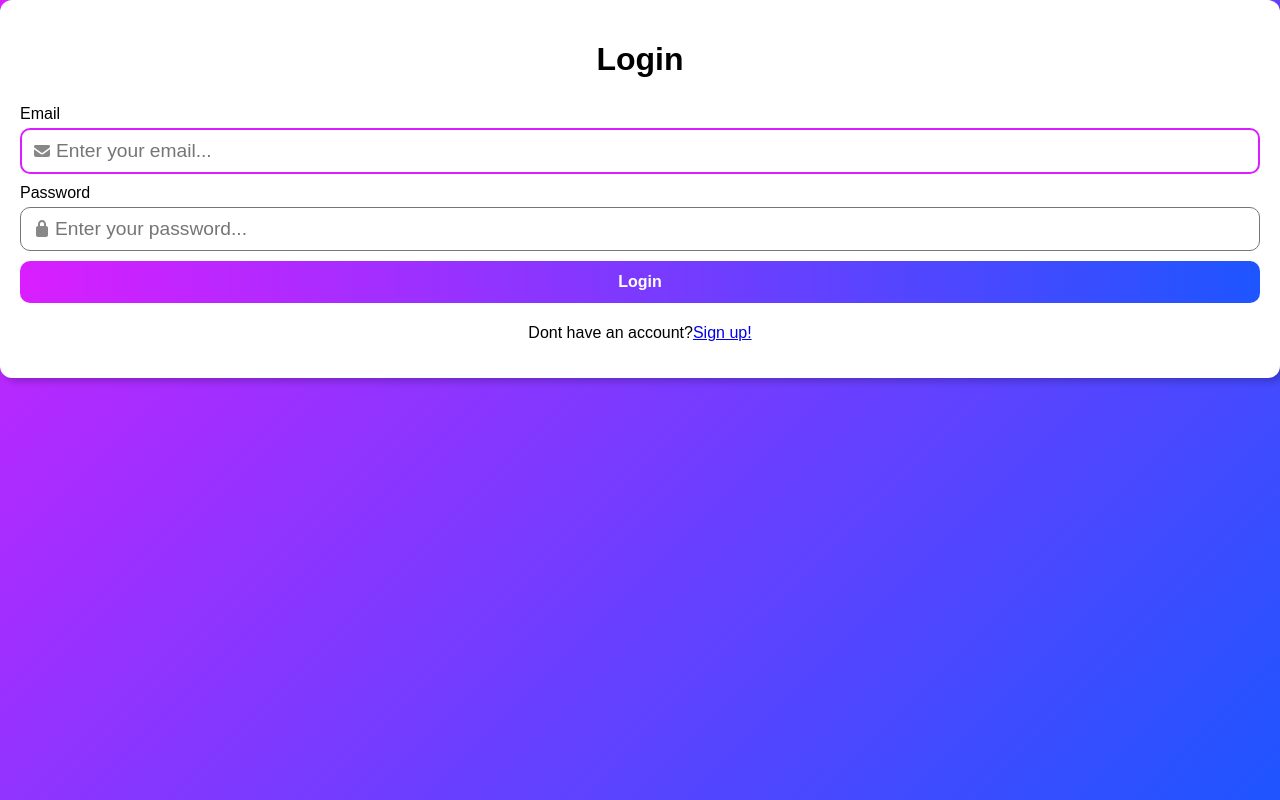
it: Login › shows an error message on 400 (bad credentials)
Type "user@example.com" into the field labelled "Email" at (640, 151), box left=20, top=128, right=1260, bottom=174
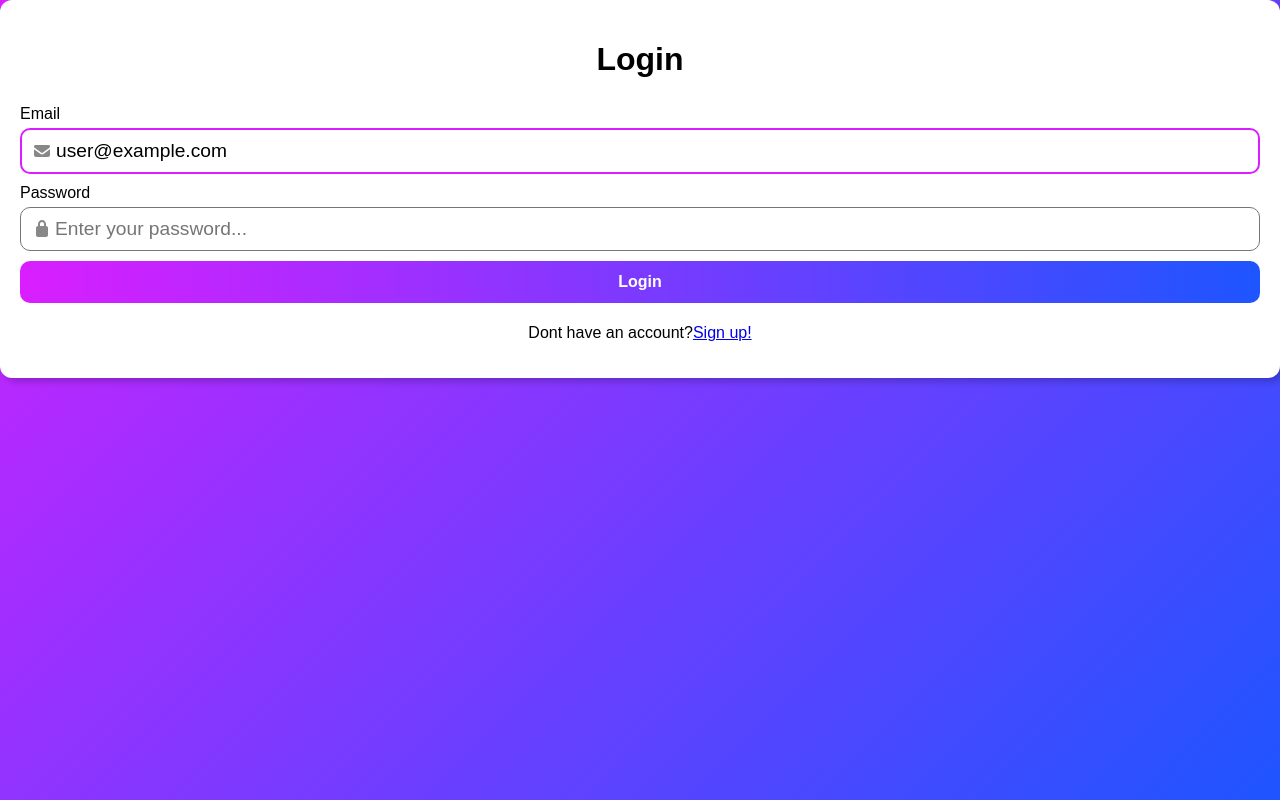
Type "wrongpass" into the password field labelled "Password" at (640, 229), box left=20, top=207, right=1260, bottom=251
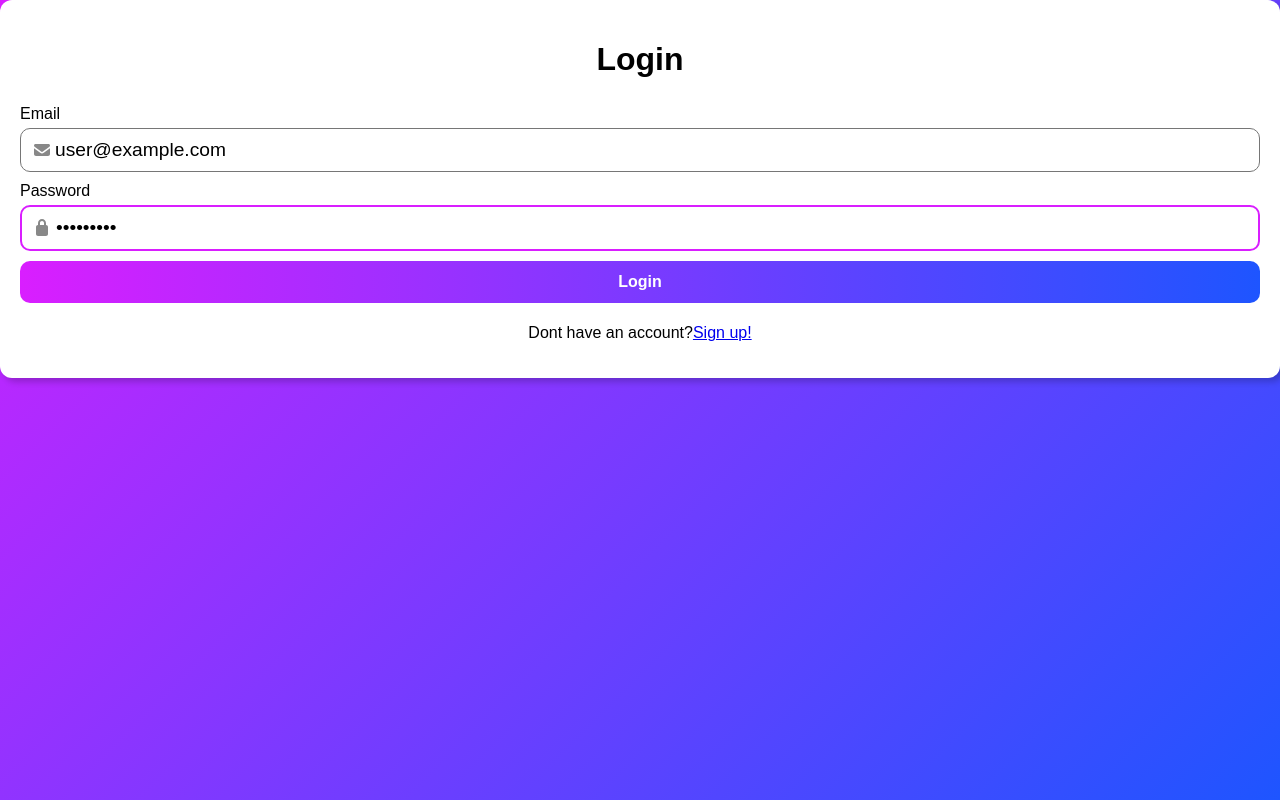
Click the button "Login" at (640, 282), box left=20, top=261, right=1260, bottom=303
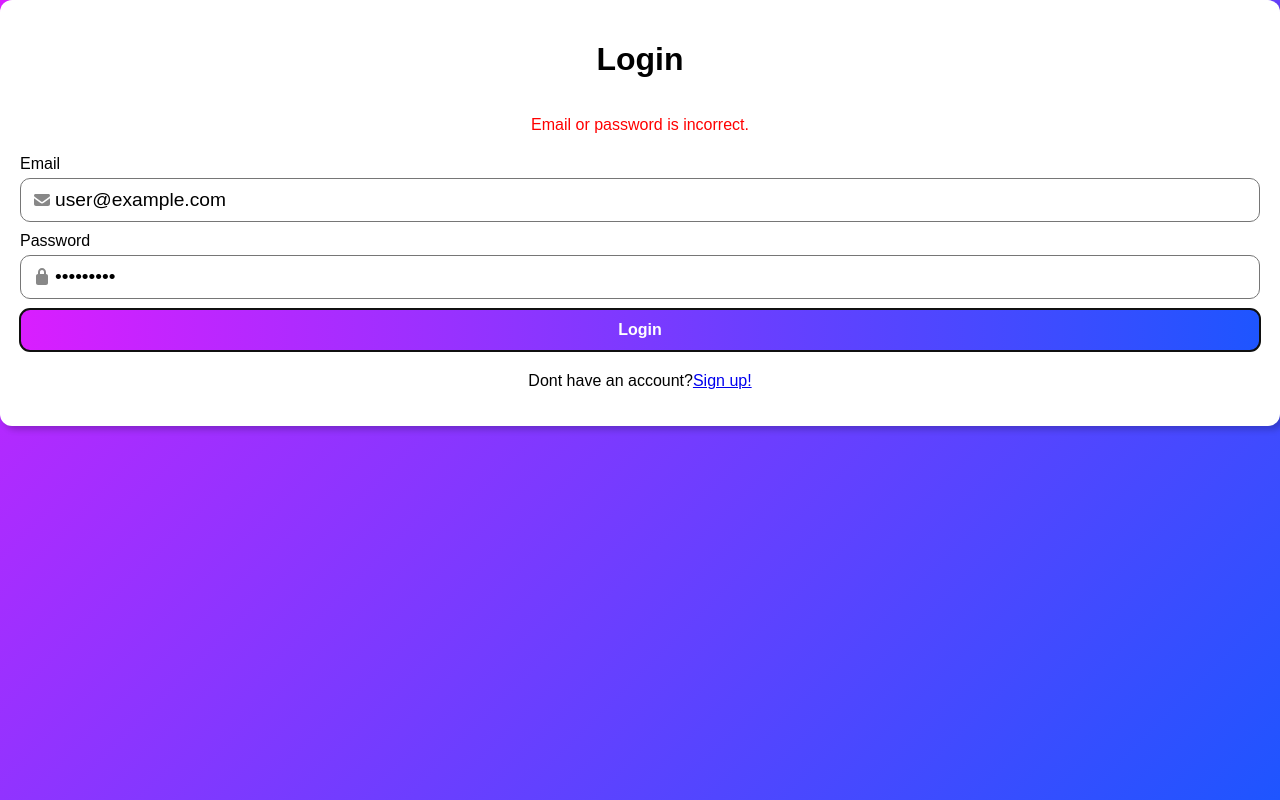
Expected: the text "Email or password is incorrect." is shown, left=531, top=116, right=749, bottom=134
